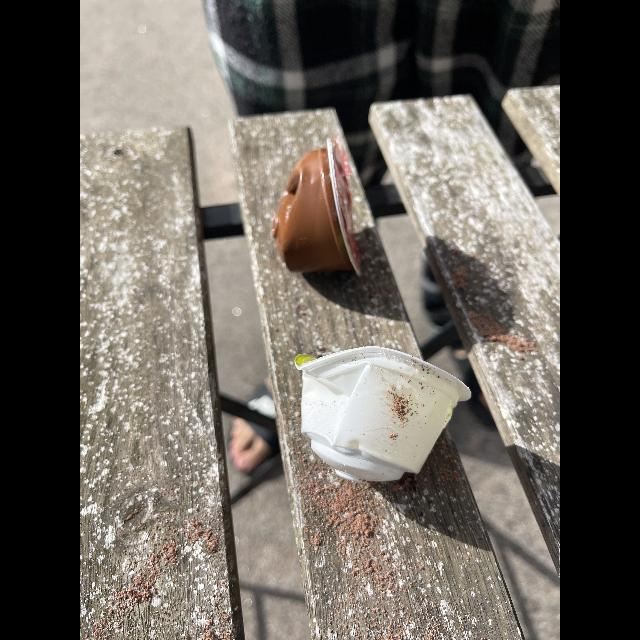damaged_capsule: (287, 345, 488, 493), (256, 124, 380, 314)
